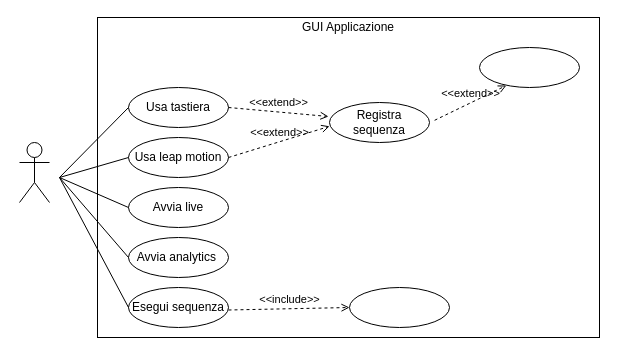
This 617x355 diagram has some shape labels left out. Here are the shapes that lost their labels. From the top down, the centre of each, then its label:
At (x=529, y=67): "Salva sequenza".
At (x=34, y=172): "Utente".
At (x=399, y=307): "Selezione sequenza".
